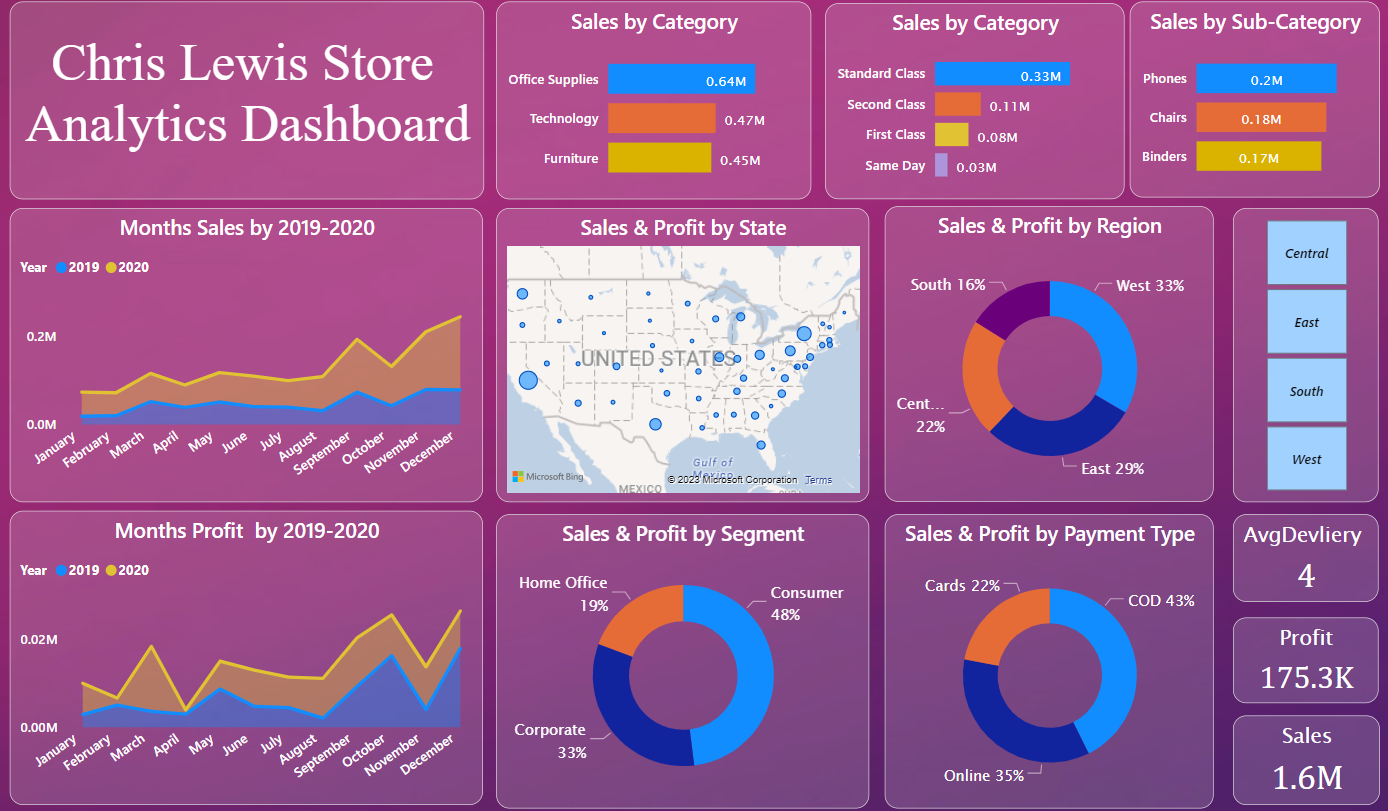

The page's visual inventory and layout, read from the dashboard file:
{"tool":"powerbi","page":{"name":"Page 1","canvas":[1289,742],"ordinal":0},"visuals":[{"type":"clusteredBarChart","title":"Sales by Category","fields":{"Category":["Sheet1.Category"],"Y":["Sheet1.Sales"]},"box":[455.6,3.2,285.7,179.4],"z":0},{"type":"clusteredBarChart","title":"Sales by Sub-Category","fields":{"Y":["Sheet1.Sales"],"Category":["Sheet1.Sub-Category"]},"box":[1030.2,3.2,227,177.8],"z":1000},{"type":"clusteredBarChart","title":"Delivery Method","fields":{"Y":["Sheet1.Sales"],"Category":["Sheet1.Ship Mode"]},"box":[754,4.8,271.4,177.8],"z":2000},{"type":"stackedAreaChart","title":"Months Sales by 2019-2020","fields":{"Y":["Sheet1.Sales"],"Category":["Sheet1.Order Date.Variation.Date Hierarchy.Month"],"Series":["Sheet1.Order Date.Variation.Date Hierarchy.Year"]},"box":[13.8,190.3,429.4,266.6],"z":3000},{"type":"stackedAreaChart","title":"Months Profit  by 2019-2020","fields":{"Category":["Sheet1.Order Date.Variation.Date Hierarchy.Month"],"Series":["Sheet1.Order Date.Variation.Date Hierarchy.Year"],"Y":["Sheet1.Profit"]},"box":[13.8,465.7,429.4,266.6],"z":4000},{"type":"map","title":"Sales & Profit by State","fields":{"Category":["Sheet1.State"],"Size":["Sheet1.Sales"]},"box":[455.6,190.5,338.1,266.7],"z":5000},{"type":"donutChart","title":"Sales & Profit by Segment","fields":{"Category":["Sheet1.Segment"],"Y":["Sheet1.Sales"]},"box":[455.6,468.3,338.1,266.7],"z":6000},{"type":"donutChart","title":"Sales & Profit by Payment Type","fields":{"Y":["Sheet1.Sales"],"Category":["Sheet1.Payment Mode"]},"box":[807.9,468.3,298.4,266.7],"z":7000},{"type":"donutChart","title":"Sales & Profit by Region","fields":{"Y":["Sheet1.Sales"],"Category":["Sheet1.Region"]},"box":[807.9,188.9,298.4,268.3],"z":8000},{"type":"slicer","fields":{"Values":["Sheet1.Region"]},"box":[1123.8,190.5,131.7,266.7],"z":9000},{"type":"card","title":"Sales","fields":{"Values":["Sheet1.Sales"]},"box":[1123.8,650.8,133.3,81],"z":10000},{"type":"card","title":"Profit","fields":{"Values":["Sheet1.Profit"]},"box":[1123.8,561.9,131.7,77.8],"z":11000},{"type":"card","title":"AvgDevliery","fields":{"Values":["Sheet1.AvrDelievry"]},"box":[1123.8,468.3,131.7,79.4],"z":12000},{"type":"textbox","box":[14.3,3.2,430.2,179.4],"z":13000}]}

Visuals, with their boxes in screenshot pixels (x1, y1, x2, y2), scaled from the page's 1289x742 canvas onto the 1388x811 screenshot:
"Sales by Category" clusteredBarChart: 491/3/798/200
"Sales by Sub-Category" clusteredBarChart: 1109/3/1354/198
"Delivery Method" clusteredBarChart: 812/5/1104/200
"Months Sales by 2019-2020" stackedAreaChart: 15/208/477/499
"Months Profit  by 2019-2020" stackedAreaChart: 15/509/477/800
"Sales & Profit by State" map: 491/208/855/500
"Sales & Profit by Segment" donutChart: 491/512/855/803
"Sales & Profit by Payment Type" donutChart: 870/512/1191/803
"Sales & Profit by Region" donutChart: 870/206/1191/500
slicer - Sheet1.Region: 1210/208/1352/500
"Sales" card: 1210/711/1354/800
"Profit" card: 1210/614/1352/699
"AvgDevliery" card: 1210/512/1352/599
textbox: 15/3/479/200
